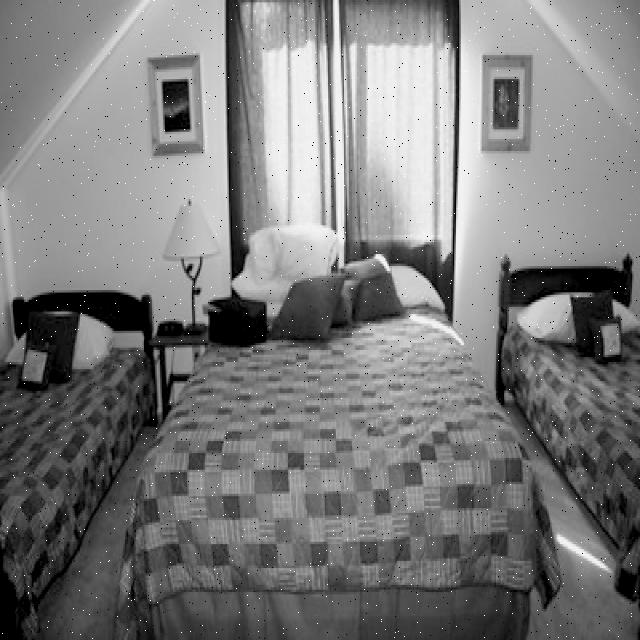bed: (143, 238, 531, 640), (3, 278, 154, 640), (503, 234, 640, 597)
